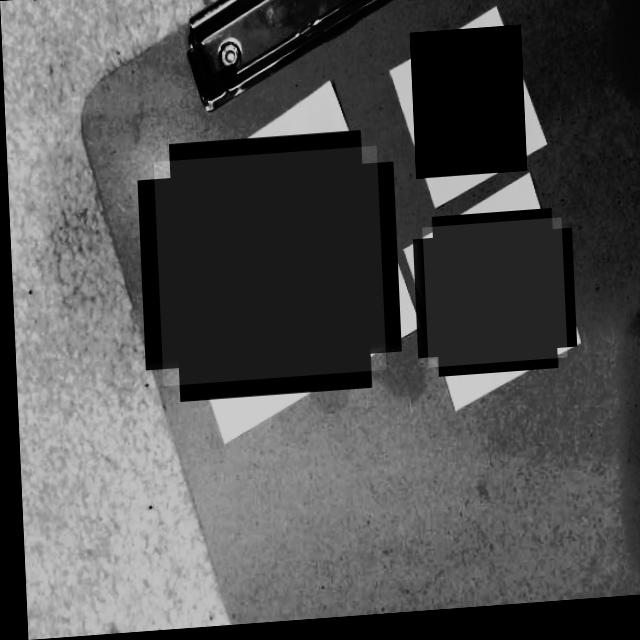qr_code: (152, 151, 383, 387), (420, 225, 564, 373), (409, 32, 525, 184)
